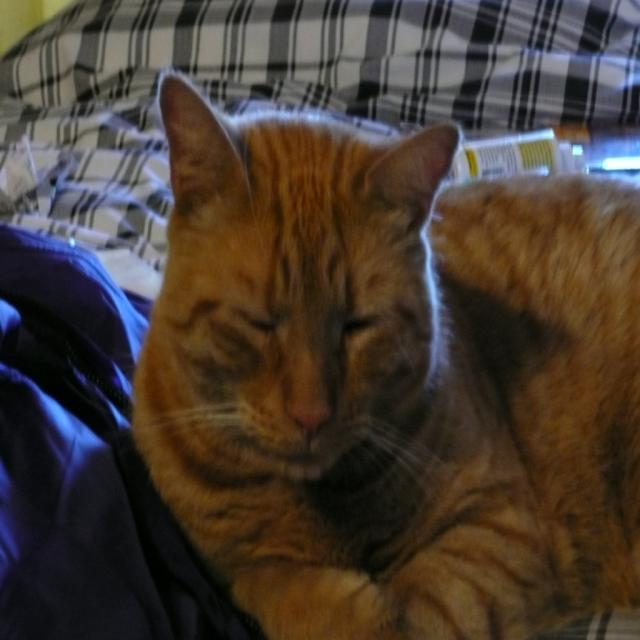Cat: (131, 70, 639, 638)
